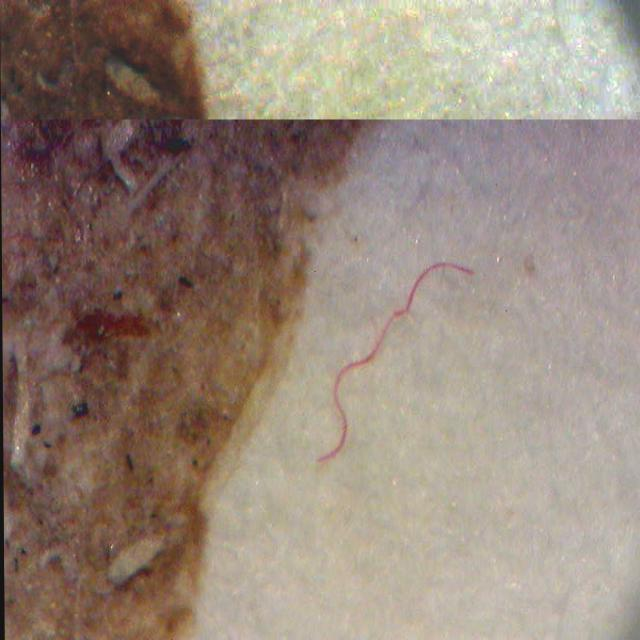microplastic: (287, 244, 477, 472)
